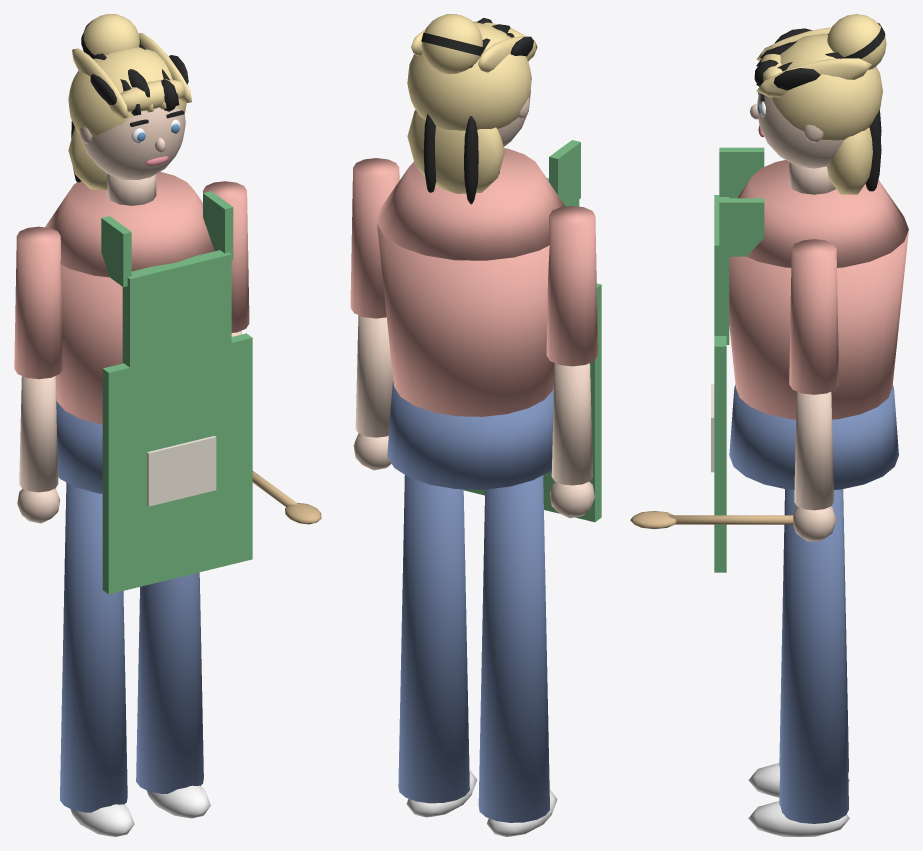
File: maria.glb
The picture shows the model from 3 angles, left to right: view 1: azimuth 30°, elevation 25°; view 2: azimuth 150°, elevation 25°; view 3: azimuth 270°, elevation 25°; orthographic projection. The views are drawn at different scales.
Parts seen in each view (by area): view 1: Maria_Apron, Maria_Torso, Leg_L.001, Leg_R.001, Arm_L.001, Forearm_L, Maria_Head, Hair_Cap, Maria_Apron_Pocket, Maria_Hips, Arm_R.001, Hair_Bun (+8 smaller); view 2: Maria_Torso, Leg_L.001, Leg_R.001, Maria_Hips, Arm_L.001, Hair_Cap, Forearm_L, Arm_R.001, Forearm_R, Maria_Apron, Hair_Back, Hair_Bun (+6 smaller); view 3: Maria_Torso, Leg_R.001, Maria_Hips, Maria_Apron, Arm_R.001, Hair_Cap, Forearm_R, Maria_Head, Hair_Back, Hair_Bun, Wooden_Spoon, Shoe_R (+6 smaller).
Boxes of the visible parts, left/top/right/bottom form: Maria_Apron: left=101, top=191, right=252, bottom=594; Maria_Torso: left=45, top=171, right=214, bottom=424; Leg_L.001: left=60, top=482, right=127, bottom=812; Leg_R.001: left=136, top=572, right=203, bottom=793; Arm_L.001: left=14, top=226, right=63, bottom=379; Forearm_L: left=17, top=376, right=60, bottom=523; Maria_Head: left=80, top=107, right=185, bottom=179; Hair_Cap: left=68, top=47, right=186, bottom=136; Maria_Apron_Pocket: left=147, top=436, right=216, bottom=506; Maria_Hips: left=56, top=399, right=102, bottom=493; Arm_R.001: left=203, top=181, right=249, bottom=332; Hair_Bun: left=82, top=14, right=139, bottom=55; Maria_Torso: left=377, top=148, right=565, bottom=416; Leg_L.001: left=478, top=475, right=549, bottom=822; Leg_R.001: left=398, top=475, right=469, bottom=803; Maria_Hips: left=387, top=380, right=553, bottom=489; Arm_L.001: left=546, top=206, right=597, bottom=366; Hair_Cap: left=407, top=22, right=531, bottom=130; Forearm_L: left=549, top=363, right=594, bottom=518; Arm_R.001: left=350, top=158, right=399, bottom=318; Forearm_R: left=353, top=315, right=393, bottom=470; Maria_Apron: left=463, top=140, right=601, bottom=522; Hair_Back: left=407, top=110, right=504, bottom=193; Hair_Bun: left=421, top=14, right=482, bottom=74; Maria_Torso: left=729, top=160, right=908, bottom=419; Leg_R.001: left=779, top=489, right=848, bottom=823; Maria_Hips: left=729, top=385, right=898, bottom=489; Maria_Apron: left=714, top=147, right=764, bottom=572; Arm_R.001: left=789, top=239, right=838, bottom=394; Hair_Cap: left=772, top=33, right=882, bottom=140; Forearm_R: left=793, top=391, right=836, bottom=541; Maria_Head: left=757, top=93, right=843, bottom=168; Hair_Back: left=827, top=127, right=872, bottom=194; Hair_Bun: left=827, top=14, right=886, bottom=69; Wooden_Spoon: left=630, top=511, right=793, bottom=529; Shoe_R: left=748, top=801, right=849, bottom=836.
Size of the model in its own units: 0.54 by 1.77 by 0.559.
